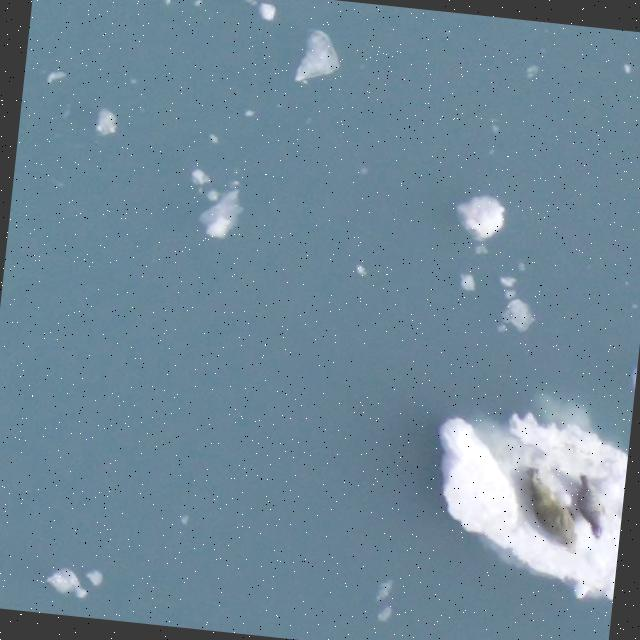seal: (523, 466, 576, 550), (576, 475, 601, 535)
